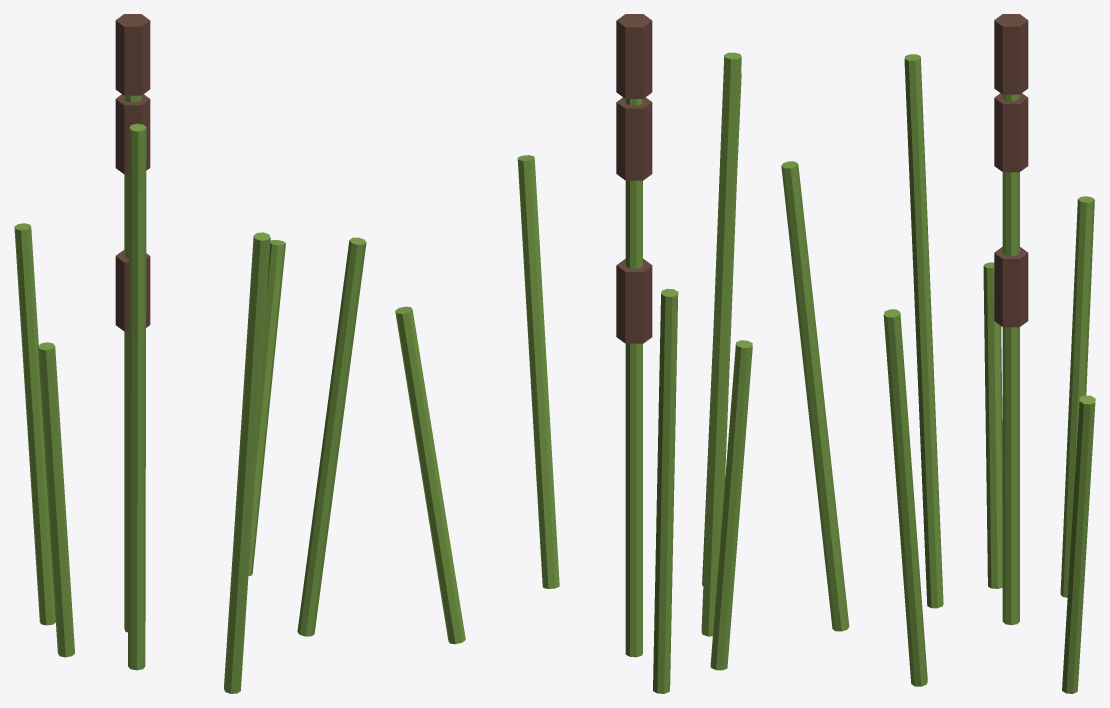
Rendered from town_reeds.glb.
3 views of the same model, side by side, from view 1: azimuth 30°, elevation 25°; view 2: azimuth 150°, elevation 25°; view 3: azimuth 270°, elevation 25° (orthographic). The views are drawn at different scales.
Parts seen in each view (by area): view 1: TownReeds_body; view 2: TownReeds_body; view 3: TownReeds_body.
Boxes of the visible parts, box(x1,y1,x2,y2) form: TownReeds_body: box(14, 14, 366, 693); TownReeds_body: box(395, 14, 752, 693); TownReeds_body: box(781, 14, 1095, 693).
Bounding box in the file's own units: 0.9783 × 1.94 × 0.9189.
